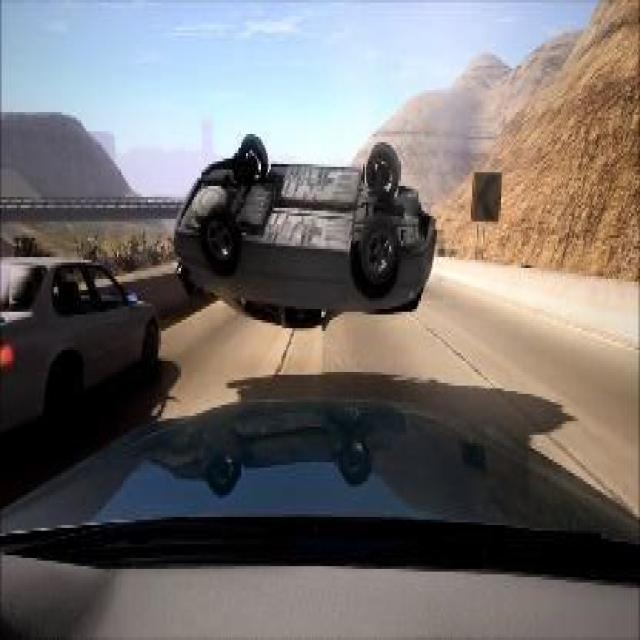accident: (172, 117, 440, 326)
